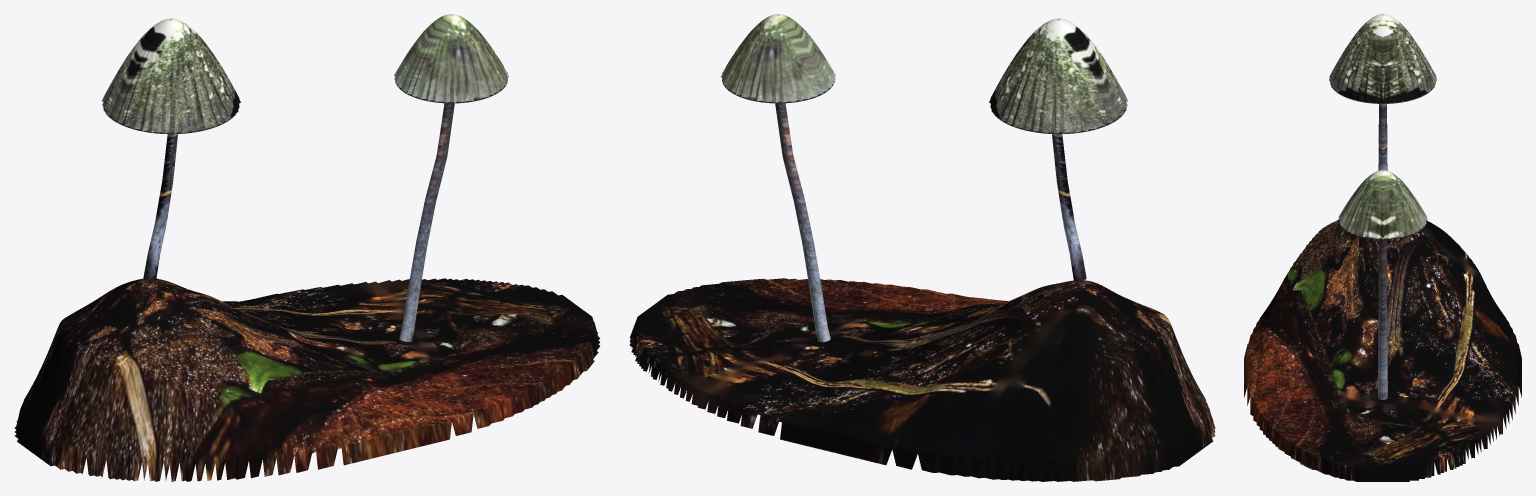
Rendered from mycena.glb.
The picture shows the model from 3 angles, left to right: view 1: azimuth 30°, elevation 25°; view 2: azimuth 150°, elevation 25°; view 3: azimuth 270°, elevation 25°; orthographic projection. The views are drawn at different scales.
Parts seen in each view (by area): view 1: serapilheira, fungos; view 2: serapilheira, fungos; view 3: serapilheira, fungos, lamelas.
Part boxes in pixels (bbox=[...]): serapilheira: bbox=[14, 278, 599, 481]; fungos: bbox=[102, 14, 508, 341]; serapilheira: bbox=[629, 278, 1215, 481]; fungos: bbox=[721, 14, 1127, 342]; serapilheira: bbox=[1244, 220, 1521, 481]; fungos: bbox=[1329, 14, 1436, 399]; lamelas: bbox=[1330, 81, 1435, 239].
Size of the model in its own units: 0.2987 by 0.2088 by 0.1688.
Materials: 3 (3 with a texture image).
